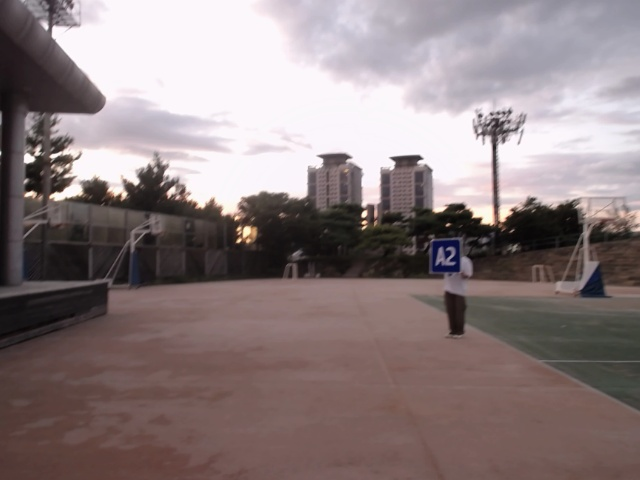delivery_a2: (430, 240, 461, 273)
